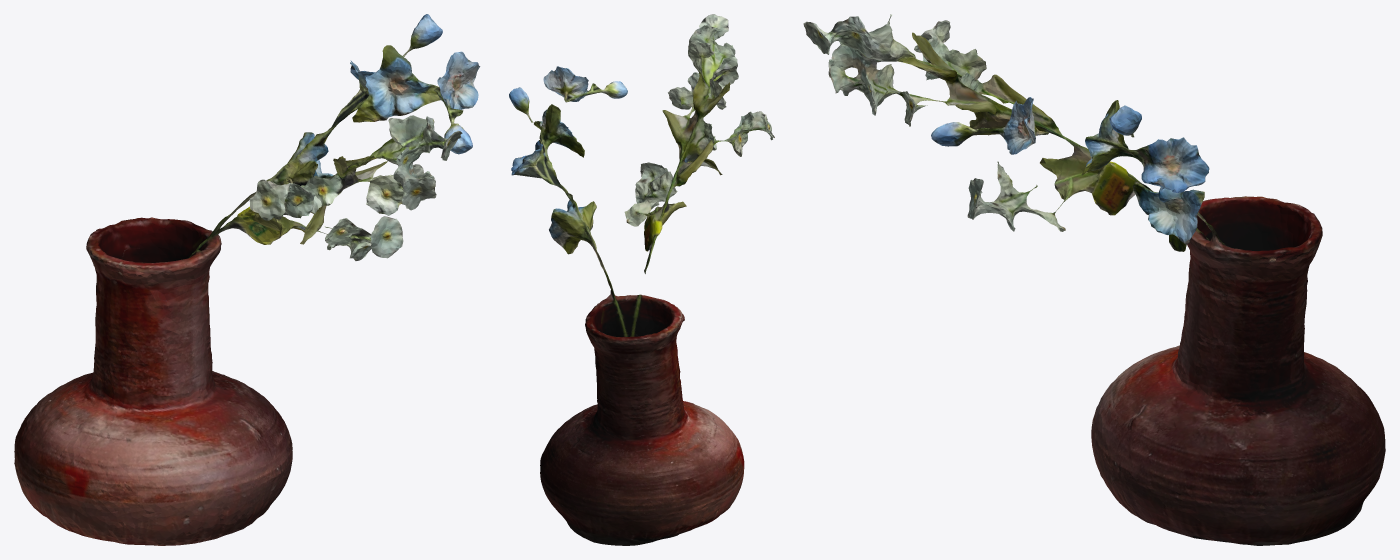
The model's file is Ceramic Vase With Flowers.glb.
The picture shows the model from 3 angles, left to right: view 1: azimuth 30°, elevation 25°; view 2: azimuth 150°, elevation 25°; view 3: azimuth 270°, elevation 25°; orthographic projection. The views are drawn at different scales.
Size of the model in its own units: 0.4577 by 0.6295 by 0.6163.
1 material, 1 textured.
